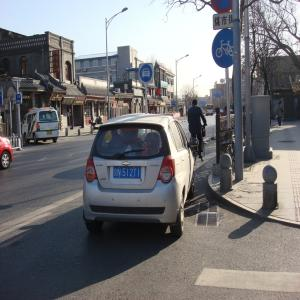Vehicle-registration-plate: (115, 167, 143, 179), (47, 131, 53, 136)
